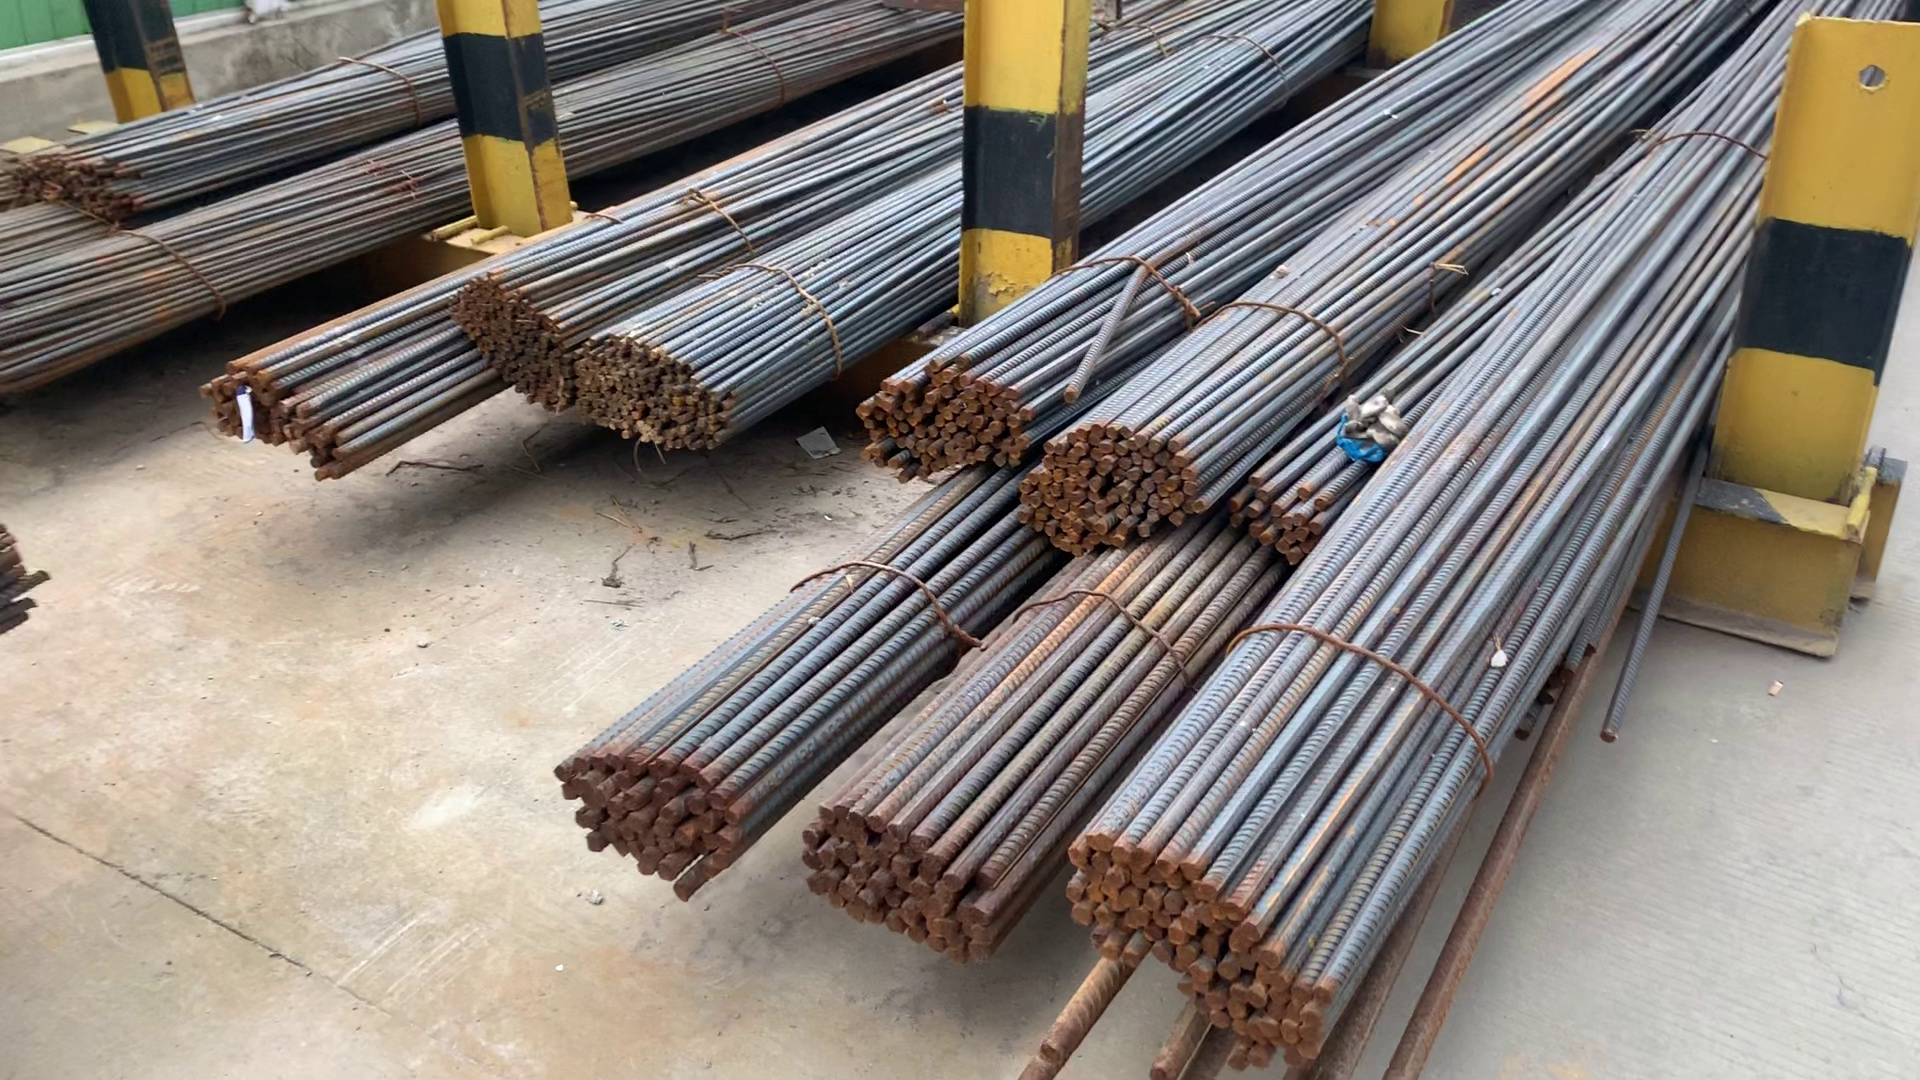rebar: (1065, 841, 1327, 1072), (791, 800, 1011, 952), (562, 750, 756, 899), (1019, 438, 1204, 550), (852, 367, 1015, 476), (199, 369, 356, 477), (580, 349, 727, 452), (458, 280, 570, 411), (1224, 465, 1327, 553), (24, 162, 146, 229)
